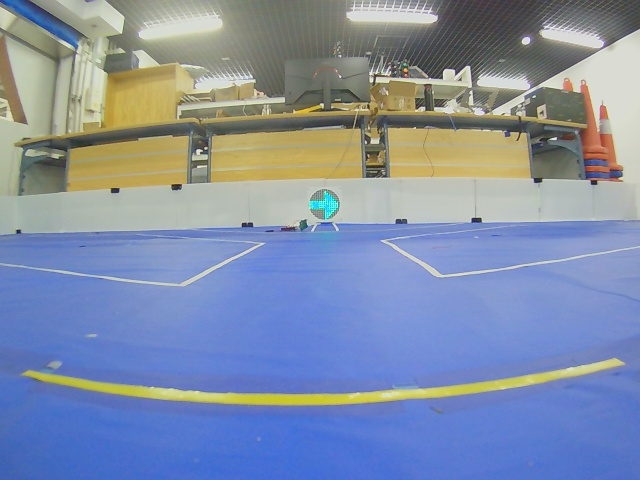right_green: (308, 189, 340, 221)
